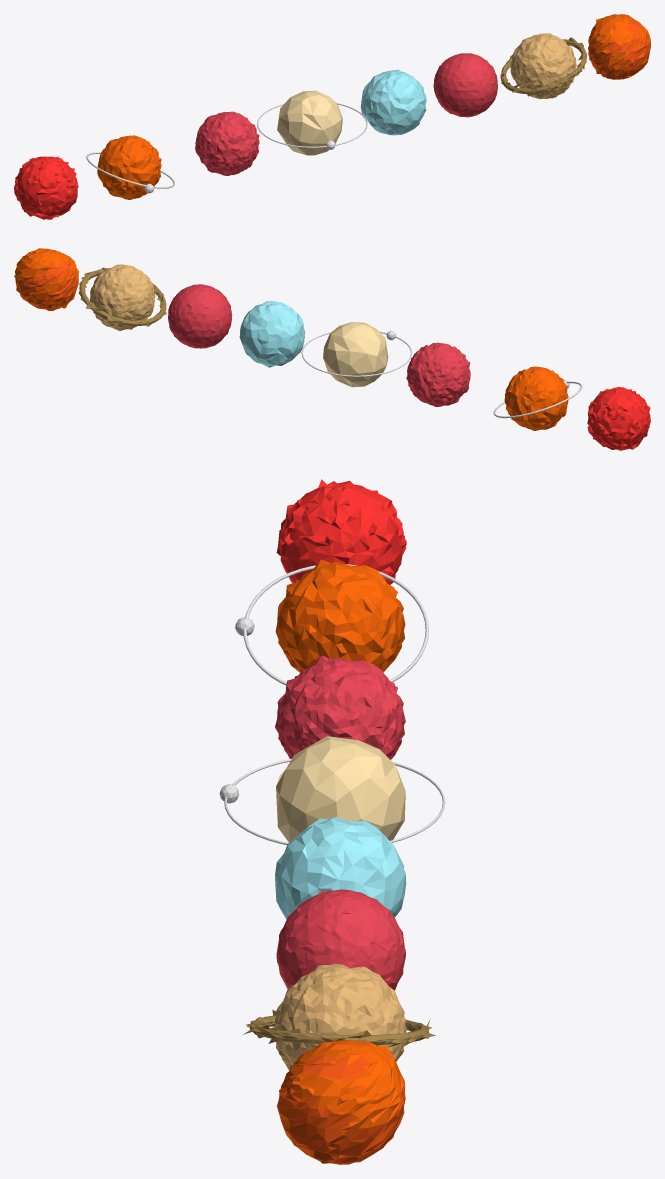
Rendered from Planets.fbx.
3 views of the same model, one above another, from view 1: azimuth 30°, elevation 25°; view 2: azimuth 150°, elevation 25°; view 3: azimuth 270°, elevation 25° (orthographic). The views are drawn at different scales.
Visible parts, largest first — view 1: Planet _001, Planet_002.001, Planet_002, Planet_003.001, Planet _001.001, Planet_002.002, Planet_003.002, Planet_003, Torus.001, Torus.002; view 2: Planet _001, Planet _001.001, Planet_002, Planet_003.001, Planet_002.002, Planet_002.001, Planet_003.002, Planet_003, Torus.001, Torus.002, Torus; view 3: Planet_002.001, Planet_003.002, Planet _001.001, Planet_003.001, Planet_002.002, Planet_002, Planet _001, Planet_003, Torus.001, Torus.
Boxes of the visible parts, bbox=[...] form: Planet _001: bbox=[360, 69, 426, 135]; Planet_002.001: bbox=[588, 14, 650, 79]; Planet_002: bbox=[433, 53, 497, 117]; Planet_003.001: bbox=[195, 111, 259, 175]; Planet _001.001: bbox=[277, 90, 342, 155]; Planet_002.002: bbox=[14, 156, 78, 219]; Planet_003.002: bbox=[97, 135, 161, 199]; Planet_003: bbox=[510, 33, 576, 99]; Torus.001: bbox=[500, 37, 586, 96]; Torus.002: bbox=[257, 103, 367, 147]; Planet _001: bbox=[239, 301, 305, 367]; Planet _001.001: bbox=[323, 322, 388, 387]; Planet_002: bbox=[168, 284, 232, 348]; Planet_003.001: bbox=[406, 342, 470, 406]; Planet_002.002: bbox=[587, 386, 650, 450]; Planet_002.001: bbox=[14, 248, 79, 310]; Planet_003.002: bbox=[504, 366, 568, 430]; Planet_003: bbox=[90, 264, 155, 330]; Torus.001: bbox=[78, 267, 166, 326]; Torus.002: bbox=[301, 331, 412, 376]; Torus: bbox=[493, 381, 582, 418]; Planet_002.001: bbox=[277, 1040, 405, 1164]; Planet_003.002: bbox=[275, 559, 405, 672]; Planet _001.001: bbox=[276, 736, 405, 842]; Planet_003.001: bbox=[275, 655, 405, 759]; Planet_002.002: bbox=[276, 479, 406, 584]; Planet_002: bbox=[276, 889, 405, 990]; Planet _001: bbox=[275, 816, 406, 919]; Planet_003: bbox=[274, 963, 406, 1070]; Torus.001: bbox=[243, 1009, 435, 1047]; Torus: bbox=[243, 564, 428, 685].
Size of the model in its own units: 38897 by 3588 by 6045.
